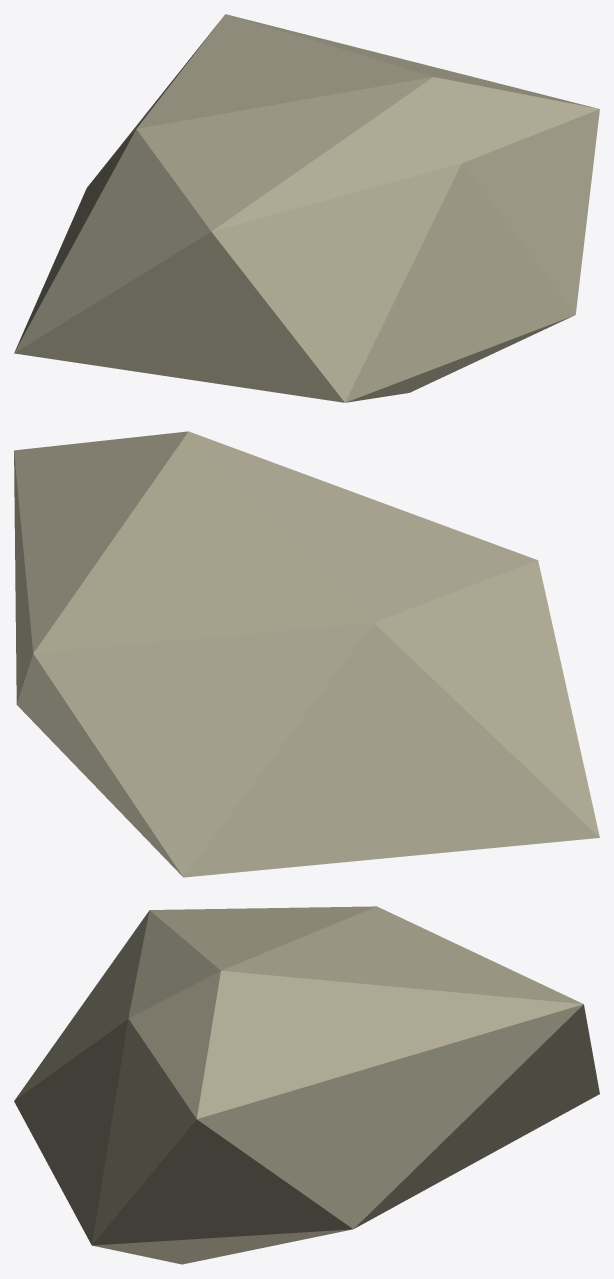
Rendered from Small Rock 2.fbx.
The picture shows the model from 3 angles, top to bottom: view 1: azimuth 30°, elevation 25°; view 2: azimuth 150°, elevation 25°; view 3: azimuth 270°, elevation 25°; orthographic projection. The views are drawn at different scales.
Visible parts, largest first — view 1: Small Rock 2; view 2: Small Rock 2; view 3: Small Rock 2.
Boxes of the visible parts, bbox=[...] form: Small Rock 2: bbox=[14, 14, 599, 402]; Small Rock 2: bbox=[14, 431, 599, 877]; Small Rock 2: bbox=[14, 906, 599, 1264].
Size of the model in its own units: 167 by 87.38 by 147.
